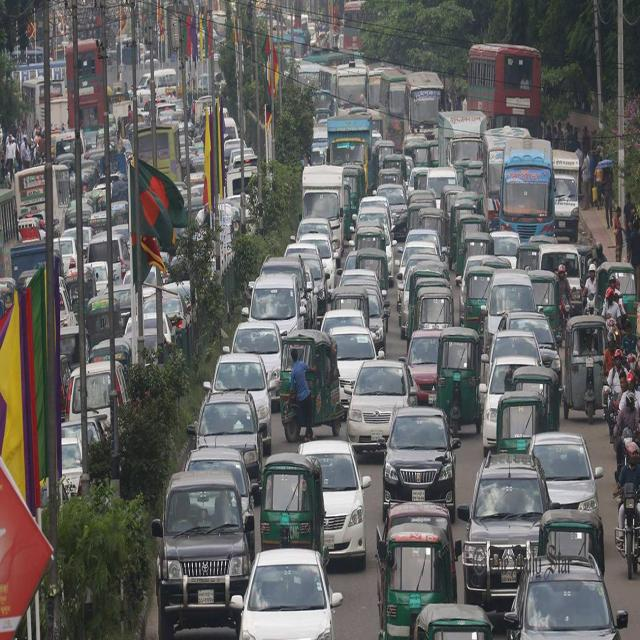black: (155, 472, 250, 640), (466, 455, 550, 605), (385, 408, 458, 517), (192, 390, 262, 478), (496, 310, 567, 394)
silver: (242, 549, 338, 640), (528, 428, 600, 526), (348, 360, 415, 454), (210, 351, 272, 445), (182, 441, 250, 518), (231, 320, 286, 406), (246, 276, 303, 354)
white: (298, 438, 370, 578), (479, 359, 543, 451), (326, 324, 378, 408)
